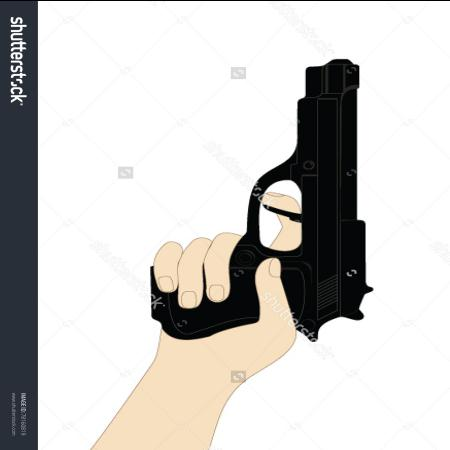Pistol: (152, 57, 374, 341)
